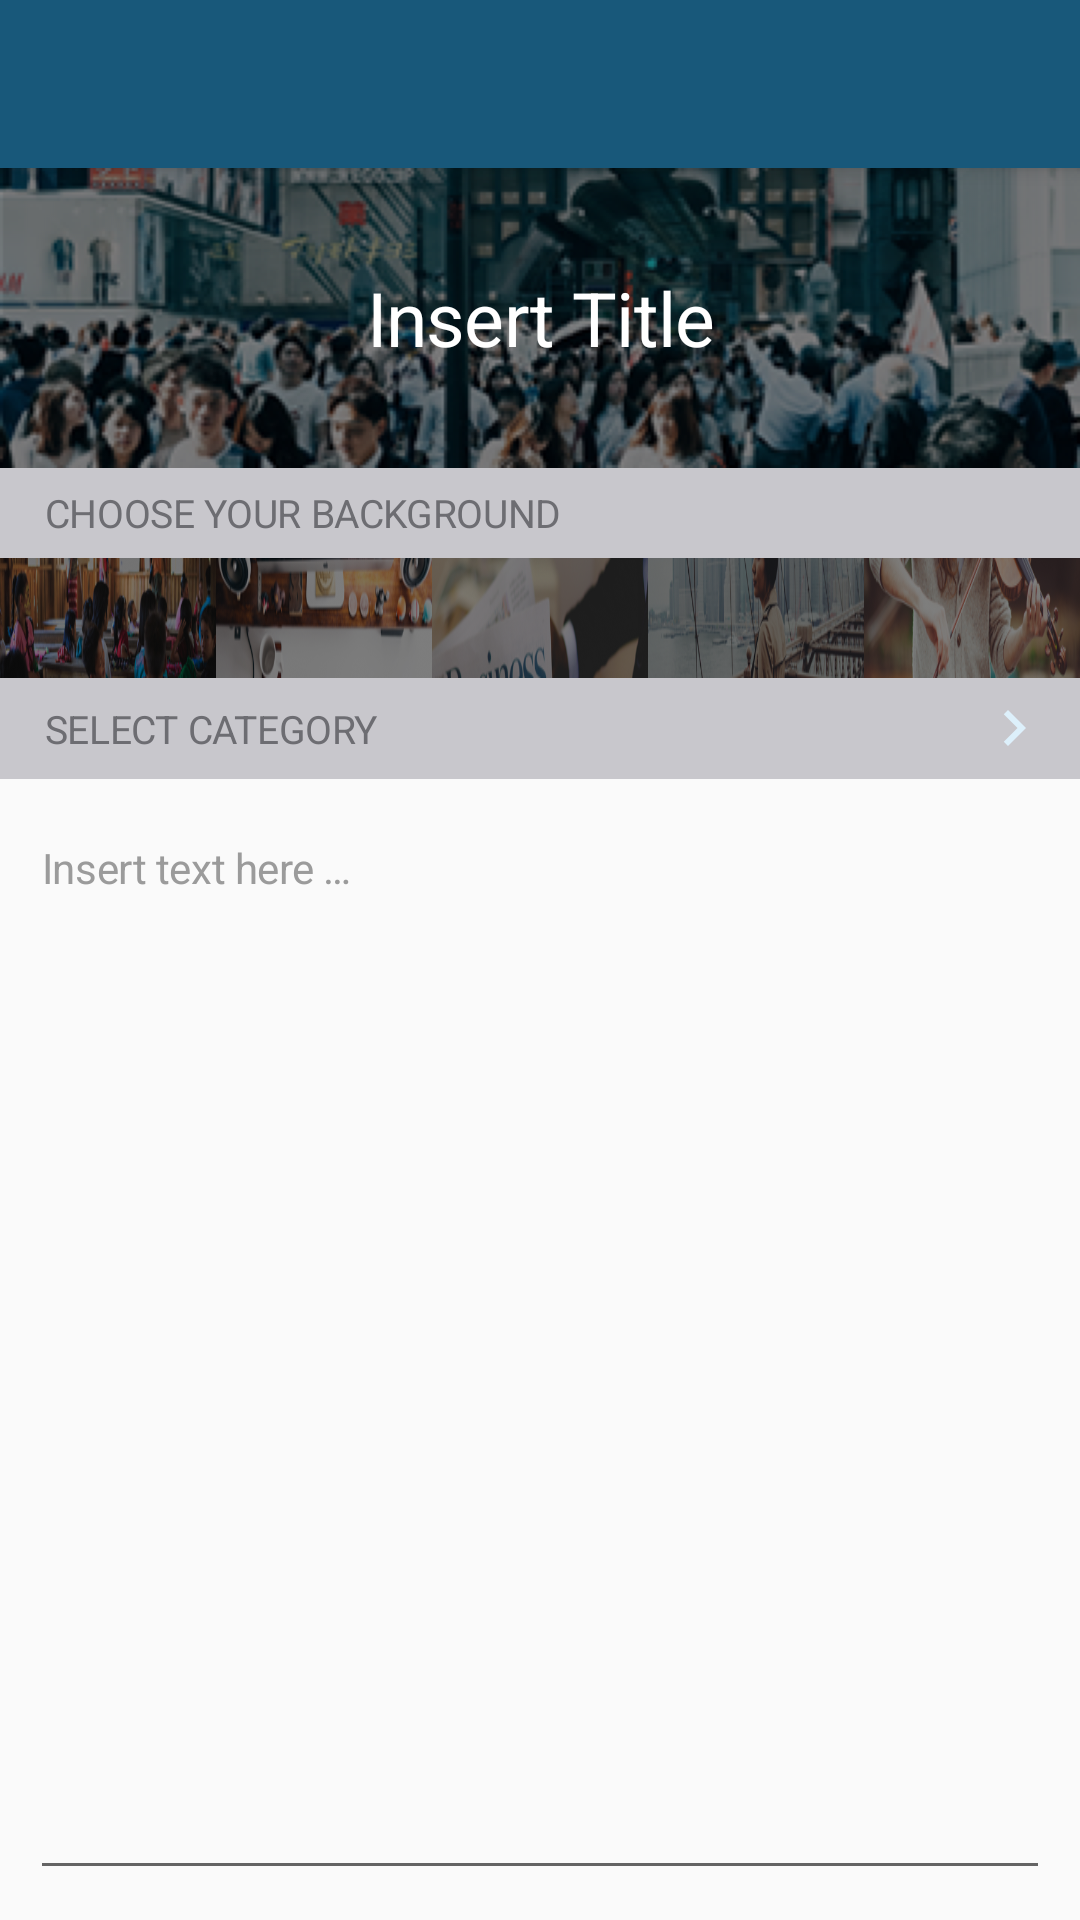

Icons on this 1080 x 1920 Android screen, each with the point to tap as point (x, y):
next: point (1014, 728)
